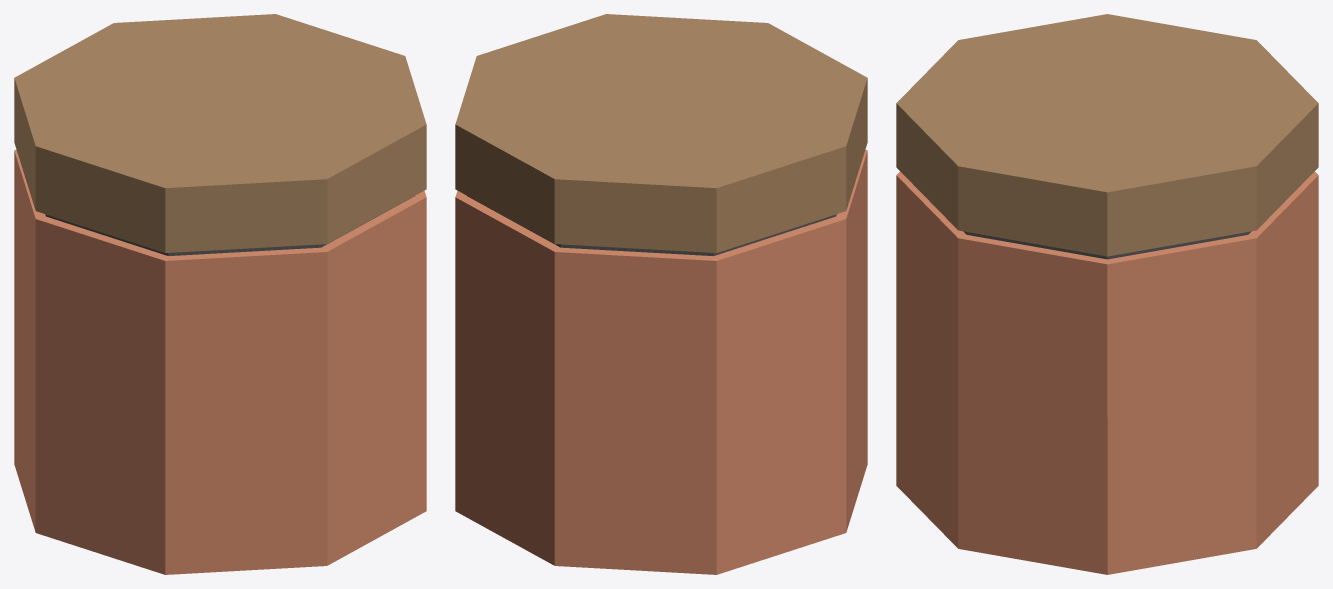
Rendered from BathroomProps_07.fbx.
The picture shows the model from 3 angles, left to right: view 1: azimuth 30°, elevation 25°; view 2: azimuth 150°, elevation 25°; view 3: azimuth 270°, elevation 25°; orthographic projection.
Visible parts, largest first — view 1: BathroomProps_07; view 2: BathroomProps_07; view 3: BathroomProps_07.
Part boxes in pixels (left/top/right/bottom): BathroomProps_07: left=14, top=14, right=426, bottom=574; BathroomProps_07: left=455, top=14, right=867, bottom=574; BathroomProps_07: left=896, top=14, right=1318, bottom=574.
Bounding box in the file's own units: 12.04 × 12.04 × 12.04.
